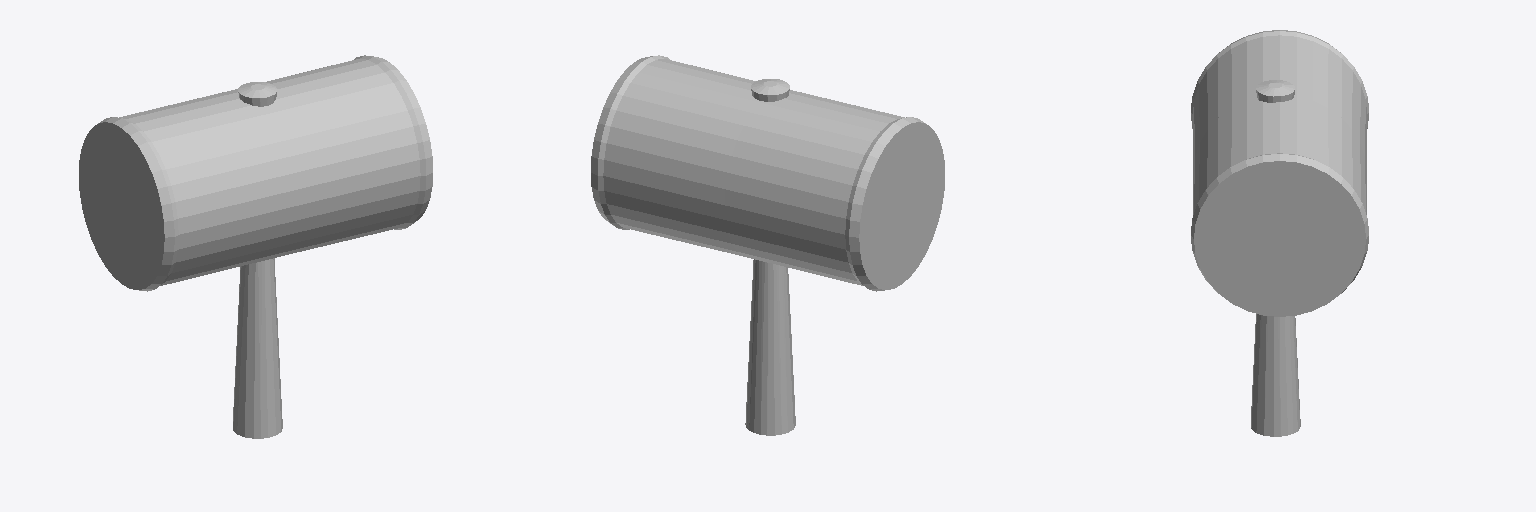
Rendered from Hammer.obj.
3 views of the same model, side by side, from view 1: azimuth 30°, elevation 25°; view 2: azimuth 150°, elevation 25°; view 3: azimuth 270°, elevation 25° (orthographic).
Parts seen in each view (by area): view 1: Cylinder; view 2: Cylinder; view 3: Cylinder.
Part boxes in pixels (x1,y1,x2,y2): Cylinder: (79,55,432,438); Cylinder: (591,55,944,435); Cylinder: (1191,30,1368,436).
Size of the model in its own units: 1.88 by 2.28 by 1.09.